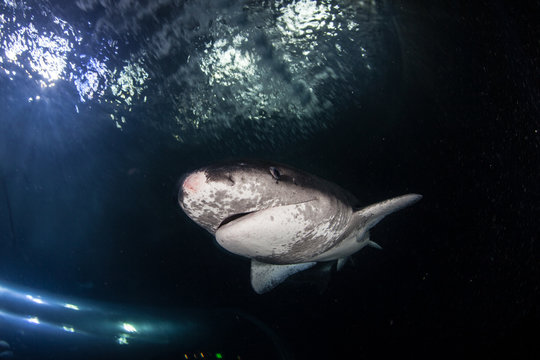Sevengill Shark: (142, 153, 450, 328)
